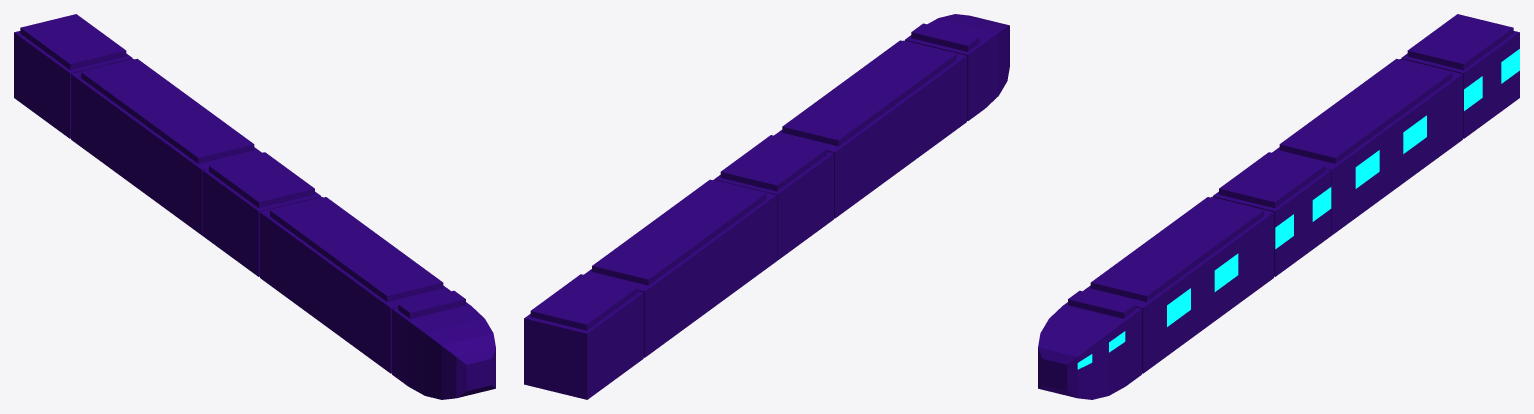
The model's file is HSR.glb.
3 views of the same model, side by side, from view 1: azimuth 30°, elevation 25°; view 2: azimuth 150°, elevation 25°; view 3: azimuth 330°, elevation 25° (orthographic).
Visible parts, largest first — view 1: 立方体.002; view 2: 立方体.002; view 3: 立方体.002.
Boxes of the visible parts, x1,y1,x2,y2 form: 立方体.002: [14, 14, 495, 399]; 立方体.002: [524, 14, 1009, 399]; 立方体.002: [1038, 14, 1519, 399].
Size of the model in its own units: 2 by 2.18 by 23.95.
